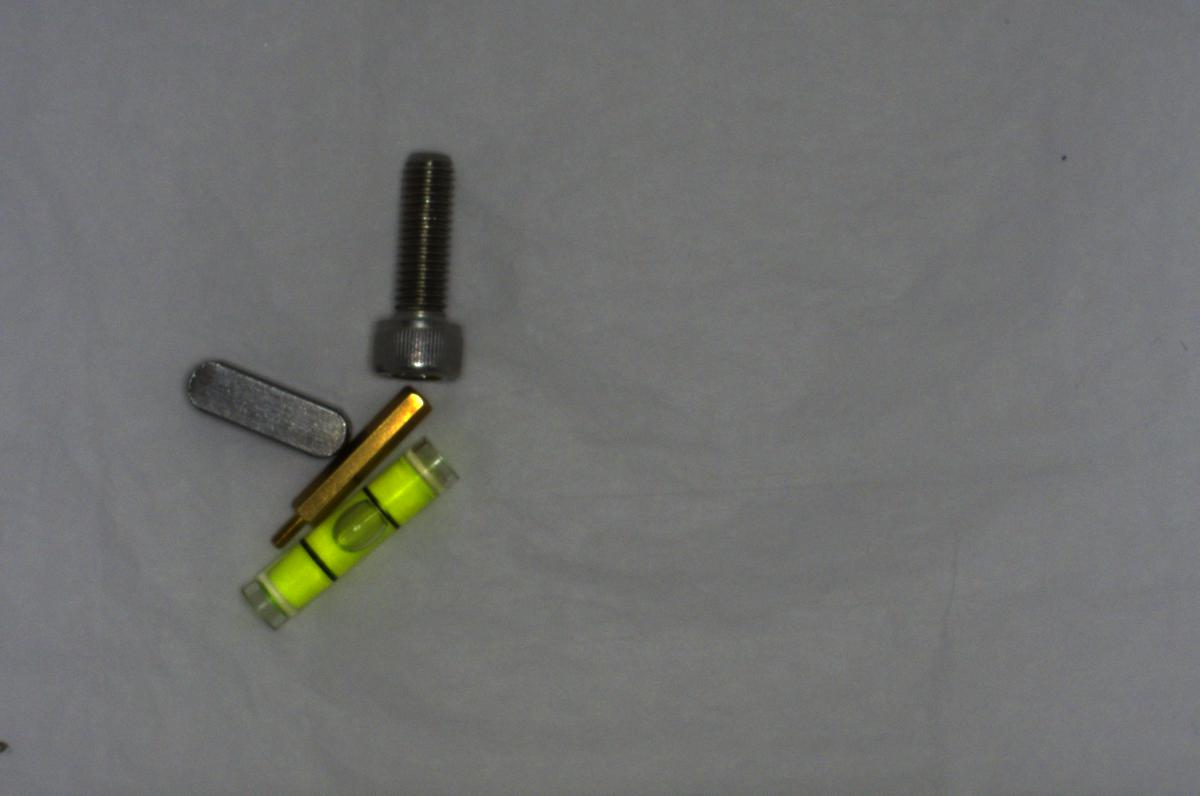Hexagon pillar: (270, 386, 430, 545)
Hexagon screw: (377, 145, 468, 386)
Horizontal bubble: (240, 439, 461, 630)
Keybar: (178, 354, 350, 459)
